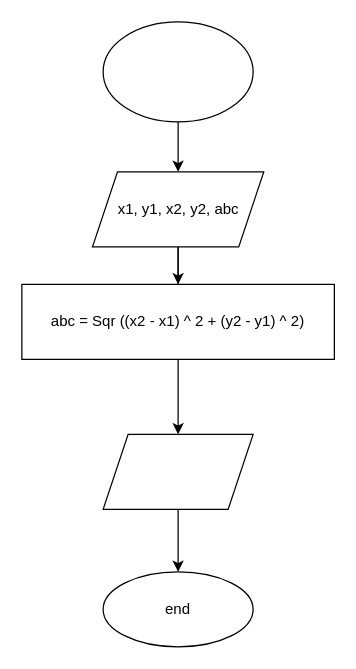
Image size: 356x669. Some labels were removed from this diagram. Each missing label, with the centre of its shape:
Start: [177,71]
Вывод abc: [177,471]
